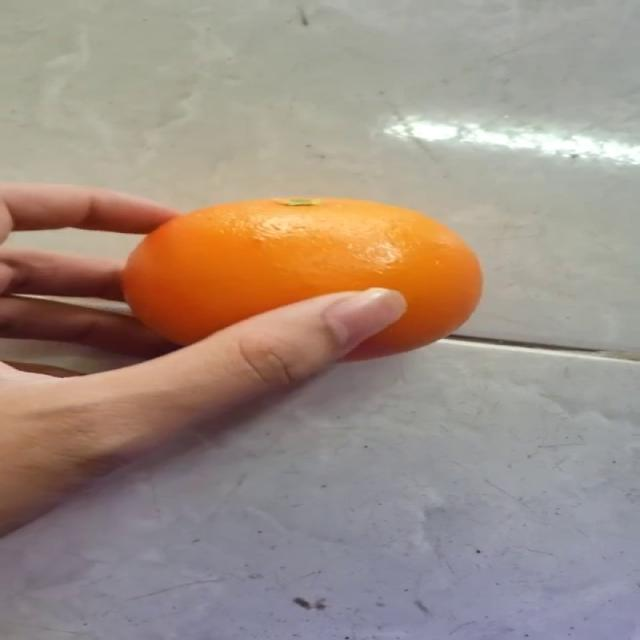Orange: (119, 194, 484, 362)
